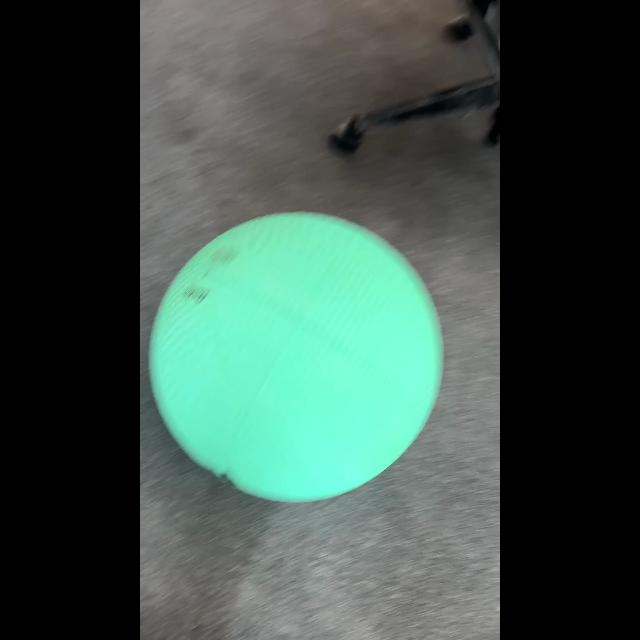ALGAE: (148, 209, 444, 503)
